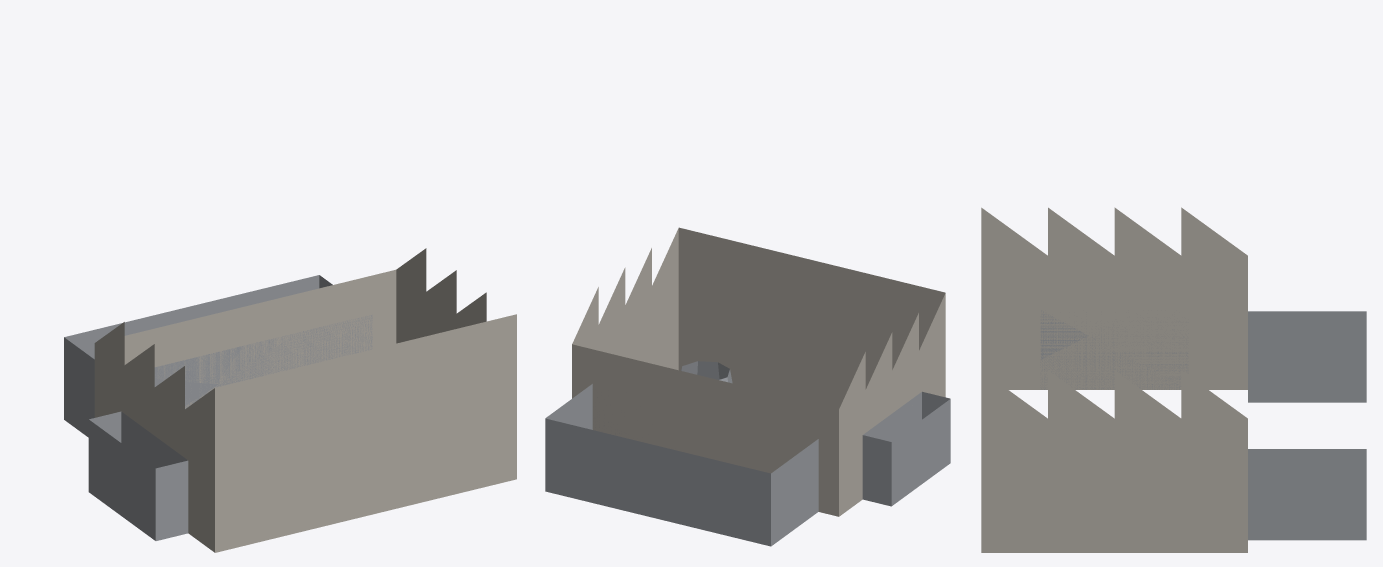
File: Bld_I_med_L3_A.fbx
3 renders of one model, left to right at view 1: azimuth 30°, elevation 25°; view 2: azimuth 150°, elevation 25°; view 3: azimuth 270°, elevation 25°, orthographic. The views are drawn at different scales.
Visible parts, largest first — view 1: Bld_I_med_L3_A_LOD0; view 2: Bld_I_med_L3_A_LOD0; view 3: Bld_I_med_L3_A_LOD0.
Part boxes in pixels (x1=…): Bld_I_med_L3_A_LOD0: x1=64, y1=248, x2=516, y2=552; Bld_I_med_L3_A_LOD0: x1=545, y1=227, x2=950, y2=546; Bld_I_med_L3_A_LOD0: x1=981, y1=207, x2=1366, y2=552.
Size of what is drawn, in the model's own units: 1497 by 1825 by 1314.
1 material, 1 textured.
